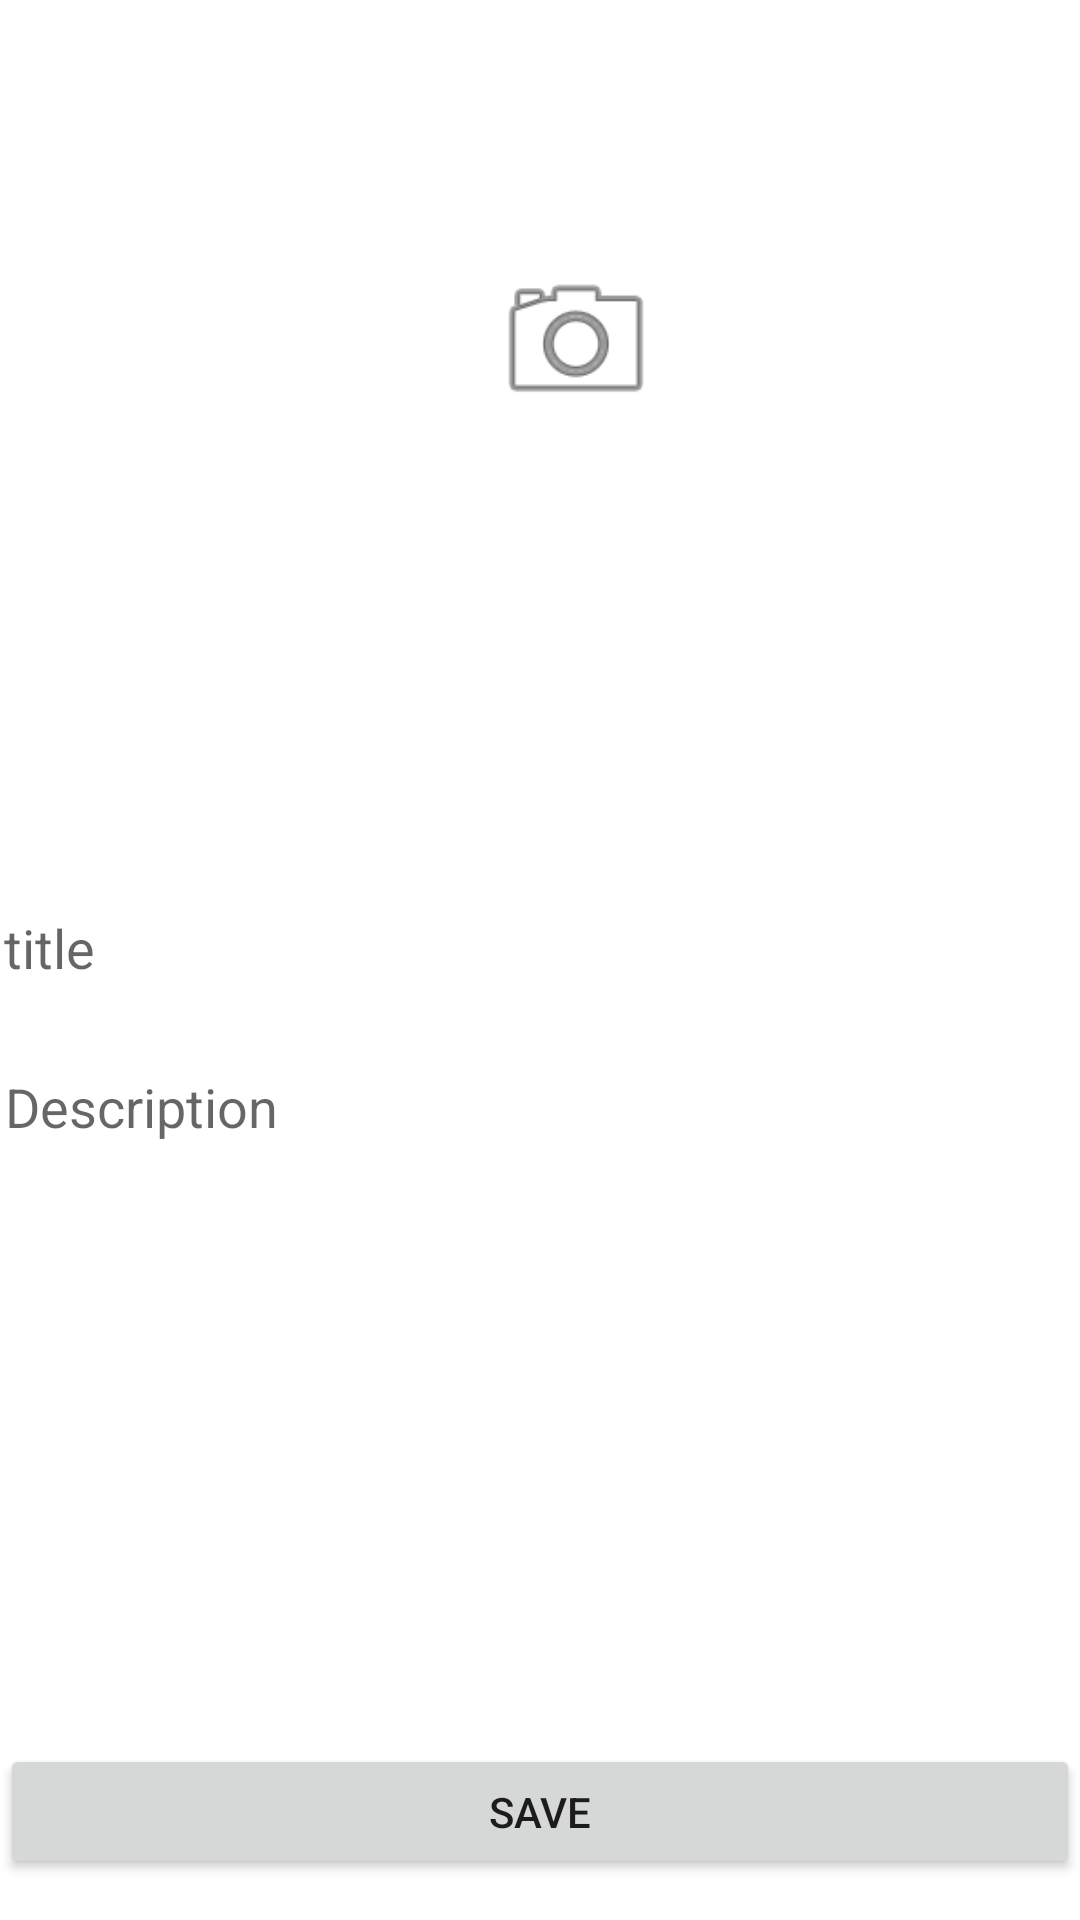

Screen size 1080w x 1920h. Icon name, then its center in pixels as [x,y]:
camera: [576,338]
